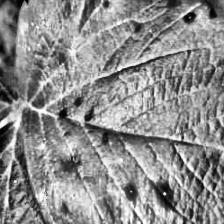Leaf Spot: (14, 0, 224, 224), (0, 118, 83, 224), (149, 0, 224, 74)
